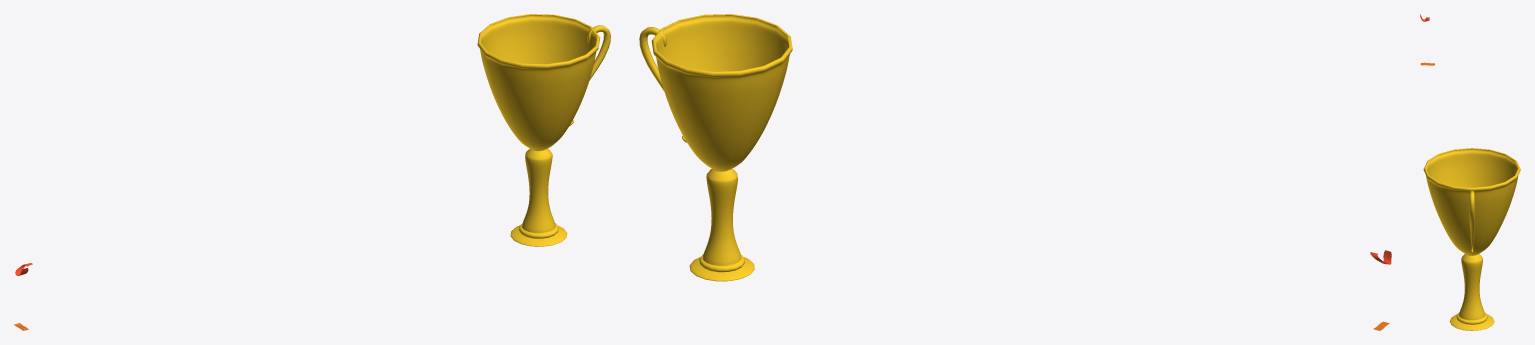
The model's file is TrophyFree.glb.
The picture shows the model from 3 angles, left to right: view 1: azimuth 30°, elevation 25°; view 2: azimuth 150°, elevation 25°; view 3: azimuth 270°, elevation 25°; orthographic projection. The views are drawn at different scales.
Visible parts, largest first — view 1: BezierCurve, BezierCurve.001; view 2: BezierCurve, BezierCurve.001; view 3: BezierCurve, BezierCurve.001.
Part boxes in pixels (x1,y1,x2,y2): BezierCurve: (477,14,600,246); BezierCurve.001: (569,25,610,125); BezierCurve: (651,14,792,281); BezierCurve.001: (639,27,686,142); BezierCurve: (1423,148,1520,330); BezierCurve.001: (1469,191,1474,253).
Bounding box in the file's own units: 18.07 × 5.43 × 3.21.
